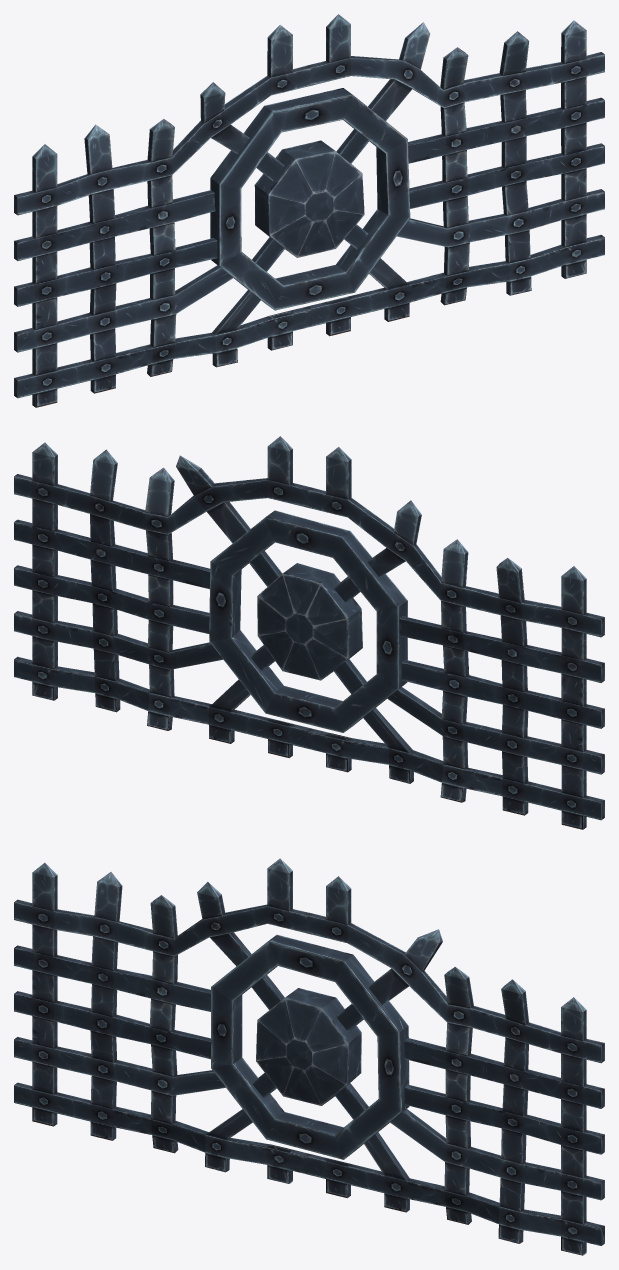
The model's file is Metal_grid_1_Circle.fbx.
3 renders of one model, top to bottom at view 1: azimuth 30°, elevation 25°; view 2: azimuth 150°, elevation 25°; view 3: azimuth 330°, elevation 25°, orthographic.
Parts seen in each view (by area): view 1: Metal_grid_1_Circle; view 2: Metal_grid_1_Circle; view 3: Metal_grid_1_Circle.
Boxes of the visible parts, x1,y1,x2,y2 form: Metal_grid_1_Circle: [14, 14, 604, 407]; Metal_grid_1_Circle: [14, 436, 604, 829]; Metal_grid_1_Circle: [14, 858, 604, 1255].
Size of the model in its own units: 4 by 2.1 by 0.2472.
